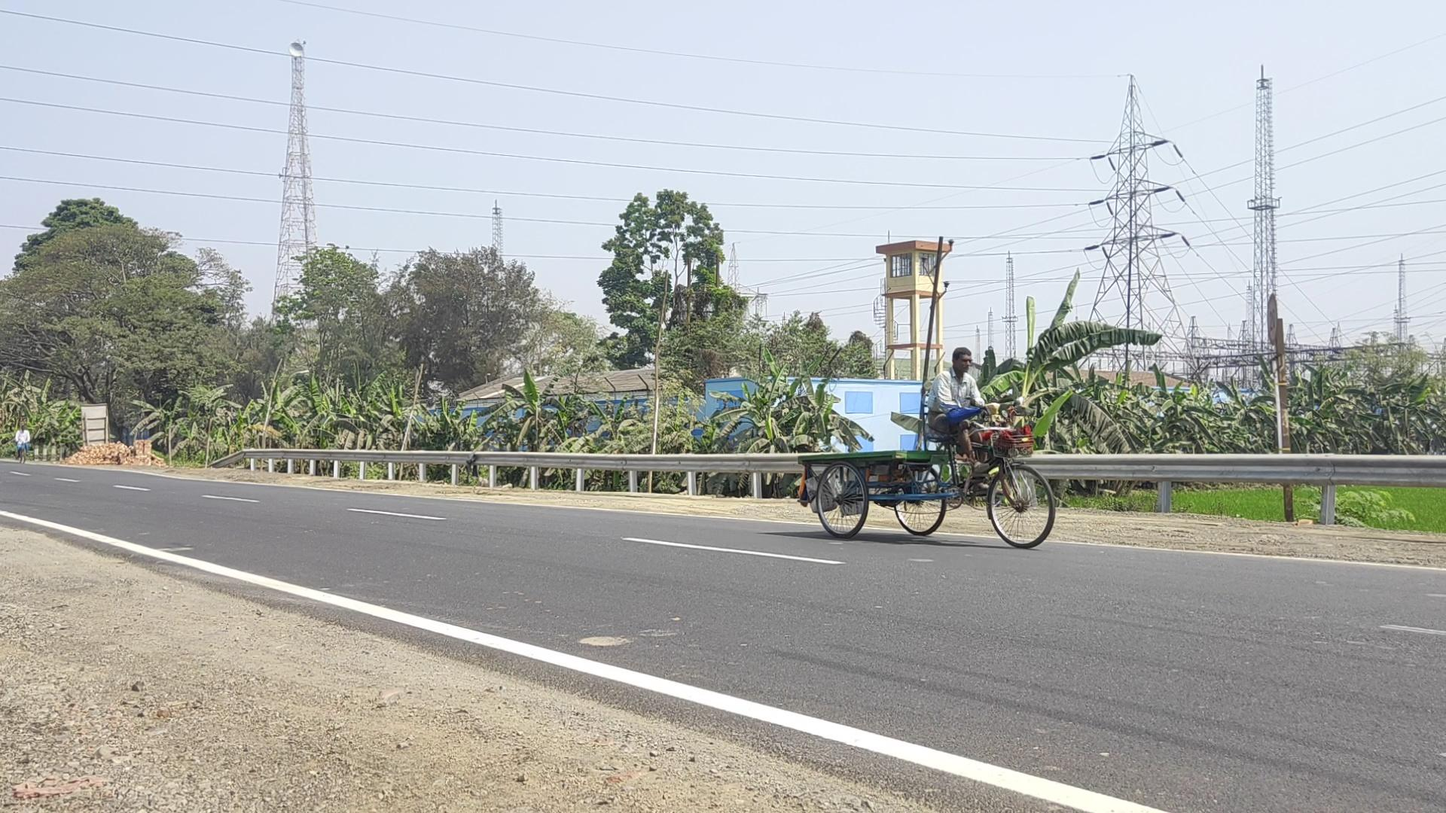bike: (15, 425, 30, 464)
